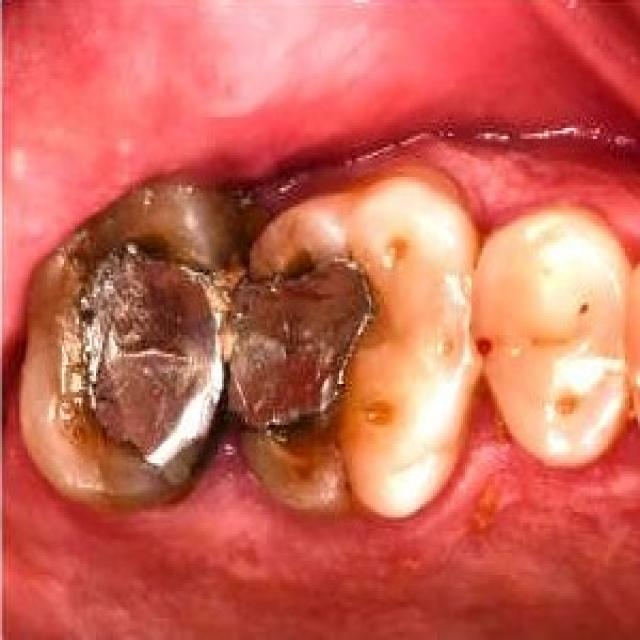caries: (8, 172, 235, 522), (231, 184, 436, 518), (516, 309, 582, 377), (459, 309, 513, 387), (543, 380, 589, 434)
